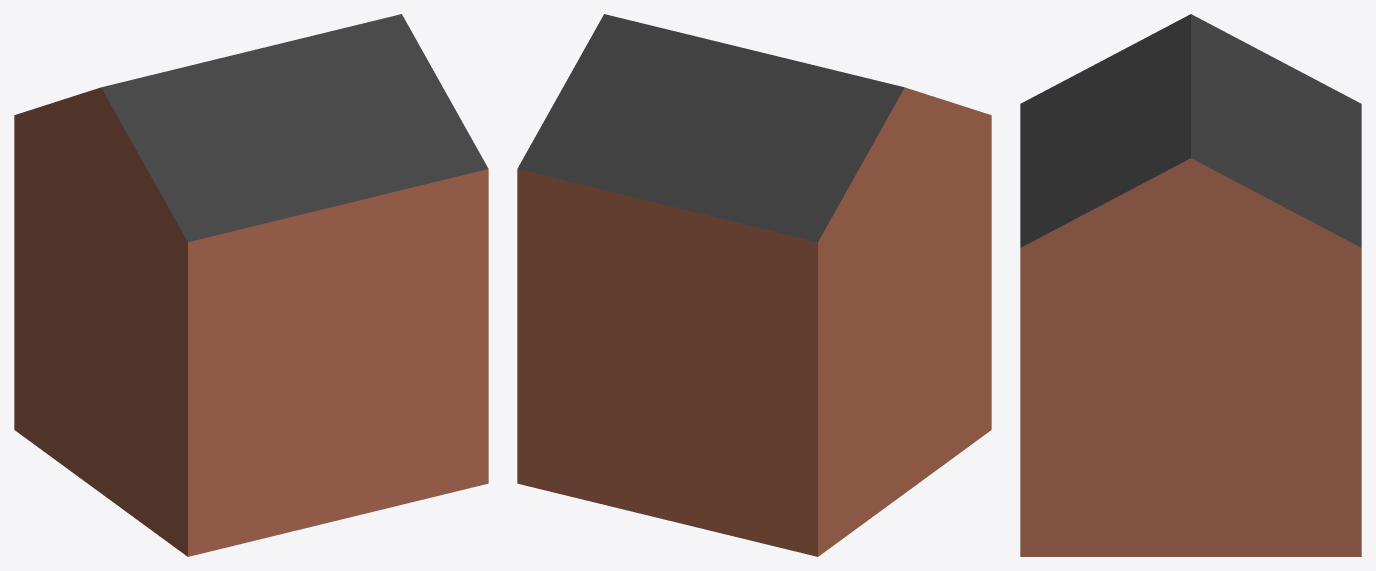
Rendered from factory_wall_01.fbx.
3 views of the same model, side by side, from view 1: azimuth 30°, elevation 25°; view 2: azimuth 150°, elevation 25°; view 3: azimuth 270°, elevation 25° (orthographic).
Parts seen in each view (by area): view 1: factory_01; view 2: factory_01; view 3: factory_01.
Part boxes in pixels (x1,y1,x2,y2): factory_01: (14,14,488,556); factory_01: (517,14,991,556); factory_01: (1020,14,1361,556).
Size of the model in its own units: 400 by 516 by 400.
